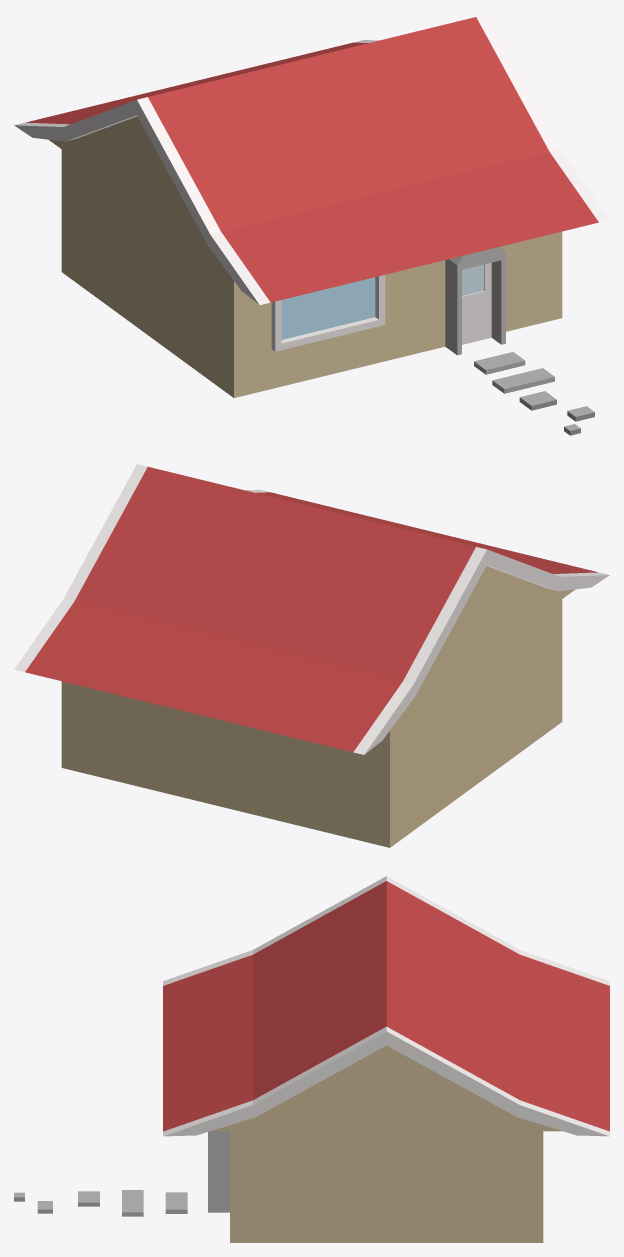
Rendered from house.fbx.
3 renders of one model, top to bottom at view 1: azimuth 30°, elevation 25°; view 2: azimuth 150°, elevation 25°; view 3: azimuth 270°, elevation 25°, orthographic. The views are drawn at different scales.
Visible parts, largest first — view 1: House; view 2: House; view 3: House.
Part boxes in pixels (x1,y1,x2,y2): House: (14,14,609,435); House: (14,464,609,847); House: (14,876,609,1242).
Size of the model in its own units: 1650 by 1088 by 2676.
